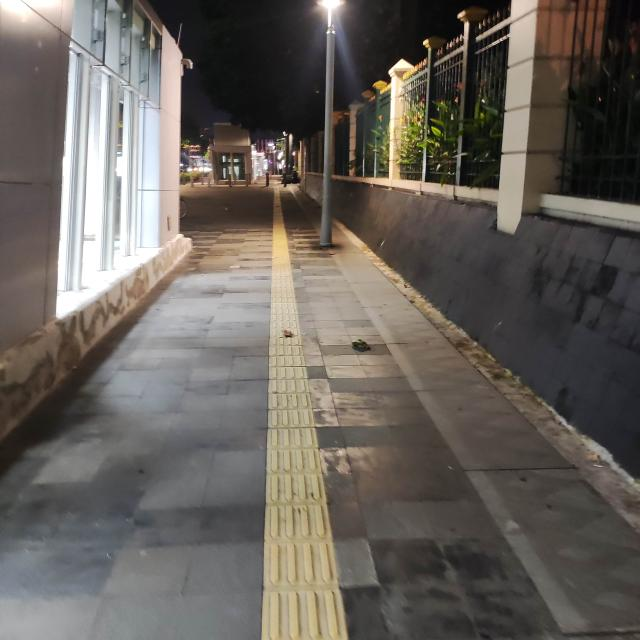lurus: (249, 205, 350, 640)
